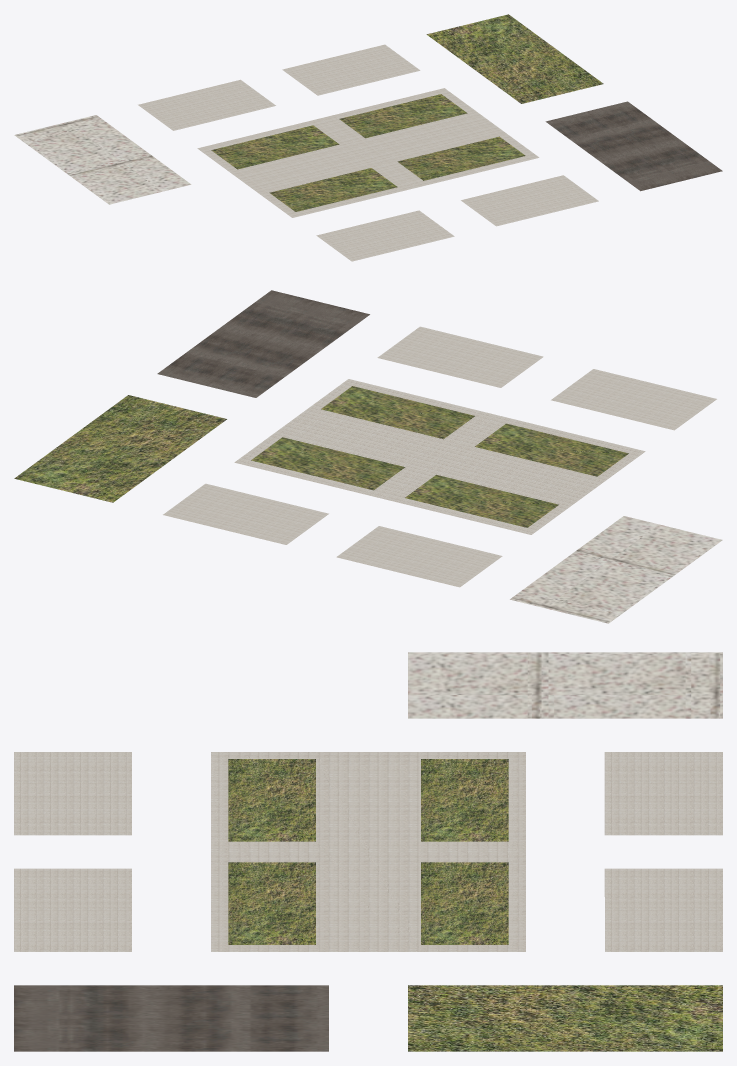
The model's file is Piso.obj.
3 views of the same model, one above another, from view 1: azimuth 30°, elevation 25°; view 2: azimuth 150°, elevation 25°; view 3: azimuth 270°, elevation 25° (orthographic). The views are drawn at different scales.
Visible parts, largest first — view 1: Piso_(cuadrantes)_Pisocentro, Piso_(cuadrantes)_Centro, Piso_(cuadrantes)_Centro_Pasto, Piso_(cuadrantes)_Helipuerto, Piso_(cuadrantes)_Pasto, Piso_(cuadrantes)_Tierra; view 2: Piso_(cuadrantes)_Pisocentro, Piso_(cuadrantes)_Centro, Piso_(cuadrantes)_Centro_Pasto, Piso_(cuadrantes)_Pasto, Piso_(cuadrantes)_Helipuerto, Piso_(cuadrantes)_Tierra; view 3: Piso_(cuadrantes)_Pisocentro, Piso_(cuadrantes)_Centro, Piso_(cuadrantes)_Centro_Pasto, Piso_(cuadrantes)_Helipuerto, Piso_(cuadrantes)_Pasto, Piso_(cuadrantes)_Tierra.
Boxes of the visible parts, x1,y1,x2,y2 form: Piso_(cuadrantes)_Pisocentro: (138, 44, 598, 261); Piso_(cuadrantes)_Centro: (197, 88, 539, 217); Piso_(cuadrantes)_Centro_Pasto: (211, 94, 525, 211); Piso_(cuadrantes)_Helipuerto: (545, 101, 722, 191); Piso_(cuadrantes)_Pasto: (426, 14, 603, 103); Piso_(cuadrantes)_Tierra: (14, 115, 191, 204); Piso_(cuadrantes)_Pisocentro: (163, 326, 716, 587); Piso_(cuadrantes)_Centro: (234, 379, 645, 534); Piso_(cuadrantes)_Centro_Pasto: (251, 386, 628, 527); Piso_(cuadrantes)_Pasto: (14, 395, 226, 502); Piso_(cuadrantes)_Helipuerto: (157, 290, 369, 397); Piso_(cuadrantes)_Tierra: (510, 516, 722, 623); Piso_(cuadrantes)_Pisocentro: (14, 752, 722, 951); Piso_(cuadrantes)_Centro: (211, 752, 525, 951); Piso_(cuadrantes)_Centro_Pasto: (228, 759, 508, 944); Piso_(cuadrantes)_Helipuerto: (14, 985, 328, 1051); Piso_(cuadrantes)_Pasto: (408, 985, 722, 1051); Piso_(cuadrantes)_Tierra: (408, 652, 722, 718).
Bounding box in the file's own units: 3600 × 0 × 2700.
